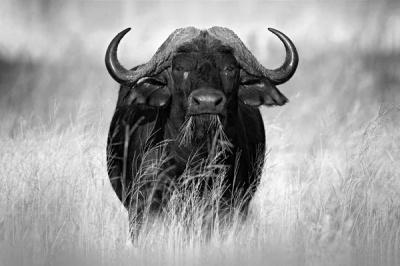buffalo: (105, 27, 300, 236)
